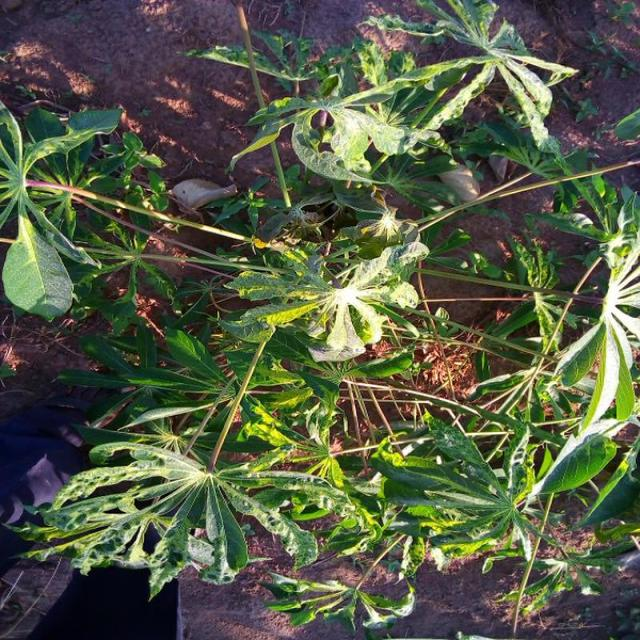cassava leaf: (1, 213, 74, 321)
